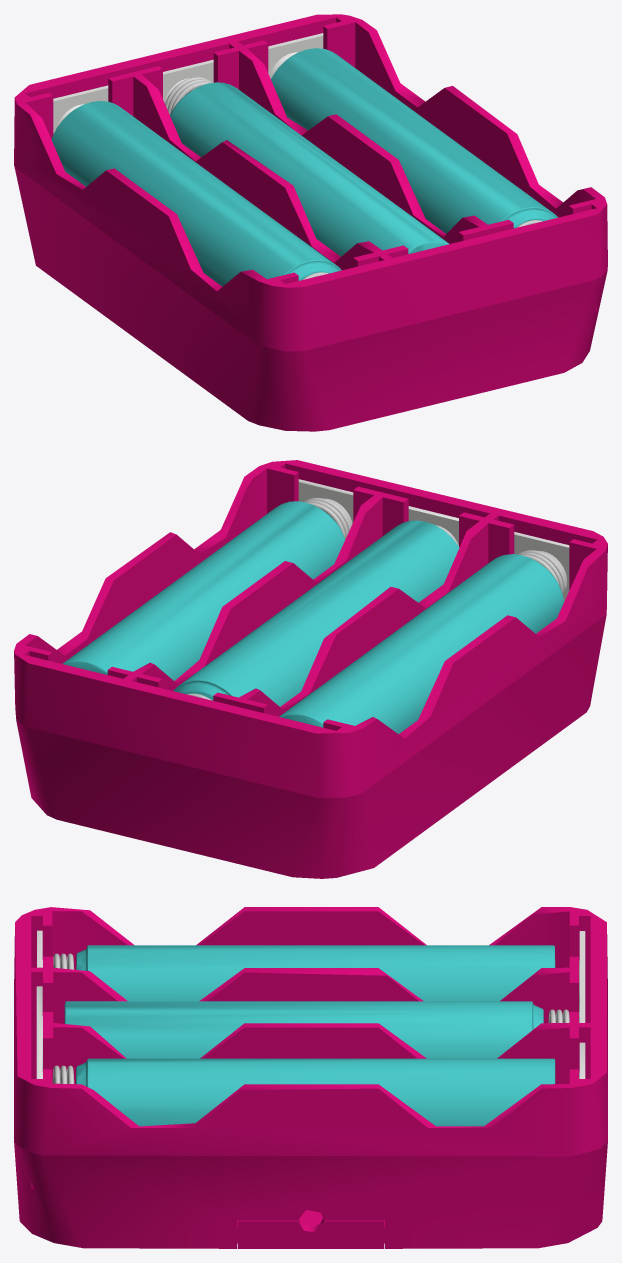
The picture shows the model from 3 angles, top to bottom: view 1: azimuth 30°, elevation 25°; view 2: azimuth 150°, elevation 25°; view 3: azimuth 270°, elevation 25°; orthographic projection. The views are drawn at different scales.
Parts seen in each view (by area): view 1: bh3; view 2: bh3; view 3: bh3.
Boxes of the visible parts, <box> form: bh3: <box>14,14,607,431</box>; bh3: <box>14,460,607,878</box>; bh3: <box>14,907,607,1248</box>.
Bounding box in the file's own units: 3.73 × 1.74 × 5.14.
